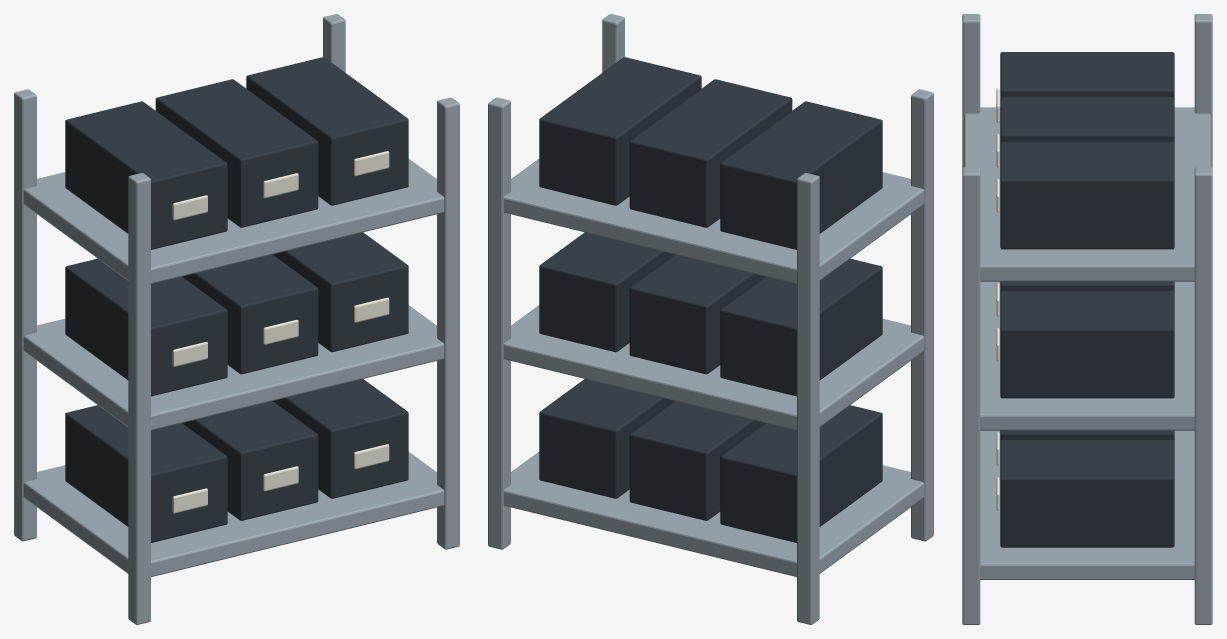
Rendered from parts-rack.glb.
3 views of the same model, side by side, from view 1: azimuth 30°, elevation 25°; view 2: azimuth 150°, elevation 25°; view 3: azimuth 270°, elevation 25° (orthographic).
Visible parts, largest first — view 1: Spare part crate.006, Shelf.002, Shelf, Shelf.001, Spare part crate.007, Spare part crate.008, Spare part crate.003, Spare part crate, Frame, Frame.002, Spare part crate.001, Spare part crate.004 (+13 smaller); view 2: Spare part crate.006, Shelf.002, Shelf, Shelf.001, Spare part crate.007, Spare part crate.008, Spare part crate.003, Spare part crate, Frame.001, Spare part crate.004, Spare part crate.001, Spare part crate.002 (+4 smaller); view 3: Spare part crate.002, Spare part crate.005, Spare part crate.008, Shelf.002, Shelf, Shelf.001, Frame.002, Frame.003, Spare part crate.006, Spare part crate.007, Frame, Frame.001 (+2 smaller).
Part boxes in pixels (x1,y1,x2,y2): Spare part crate.006: (65, 101, 227, 249); Shelf.002: (23, 159, 444, 283); Shelf: (23, 452, 444, 576); Shelf.001: (23, 305, 444, 430); Spare part crate.007: (155, 79, 318, 227); Spare part crate.008: (246, 57, 408, 205); Spare part crate.003: (65, 258, 227, 396); Spare part crate: (65, 405, 227, 542); Frame: (128, 173, 150, 624); Frame.002: (437, 97, 459, 549); Spare part crate.001: (182, 401, 318, 520); Spare part crate.004: (182, 254, 318, 374); Spare part crate.006: (720, 101, 882, 249); Shelf.002: (503, 159, 924, 283); Shelf: (503, 452, 924, 576); Shelf.001: (503, 305, 924, 430); Spare part crate.007: (629, 79, 792, 227); Spare part crate.008: (539, 57, 701, 205); Spare part crate.003: (720, 258, 882, 396); Spare part crate: (720, 405, 882, 542); Frame.001: (797, 173, 819, 624); Spare part crate.004: (629, 254, 765, 374); Spare part crate.001: (629, 401, 765, 520); Spare part crate.002: (539, 379, 674, 498); Spare part crate.002: (1000, 440, 1174, 547); Spare part crate.005: (1000, 291, 1174, 398); Spare part crate.008: (1000, 142, 1174, 249); Shelf.002: (964, 107, 1210, 281); Shelf: (980, 430, 1194, 579); Shelf.001: (980, 281, 1194, 430); Frame.002: (962, 167, 980, 624); Frame.003: (1194, 167, 1212, 624); Spare part crate.006: (1000, 52, 1174, 98); Spare part crate.007: (1000, 97, 1174, 143); Frame: (962, 14, 980, 168); Frame.001: (1194, 14, 1212, 168).
Size of the model in its own units: 1.58 by 2.06 by 1.03.
